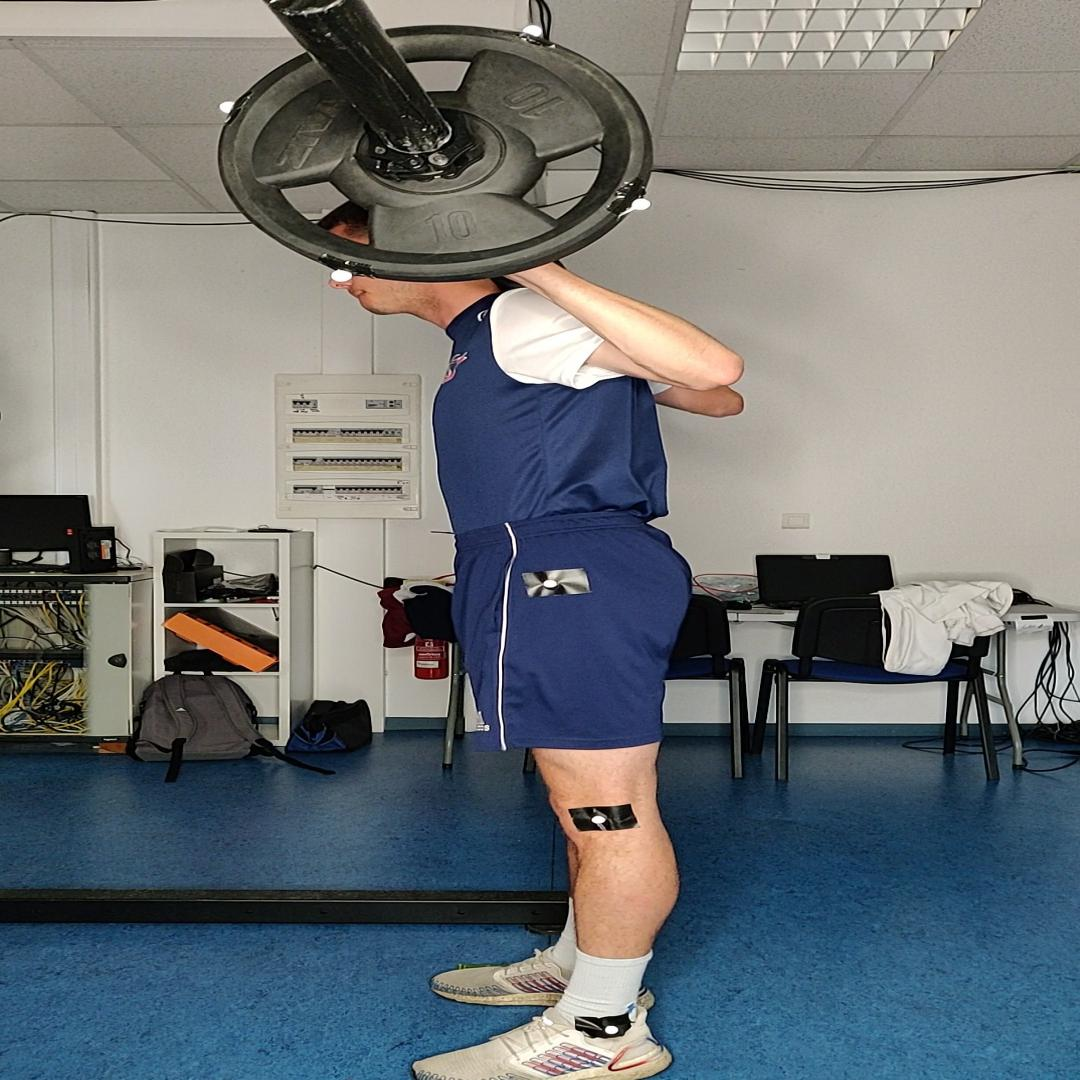Barbell: (219, 23, 655, 282)
